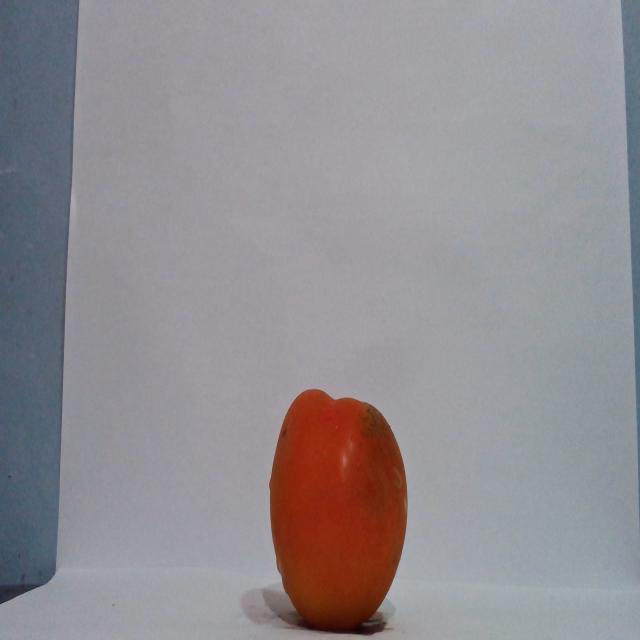Red: (267, 386, 408, 631)
